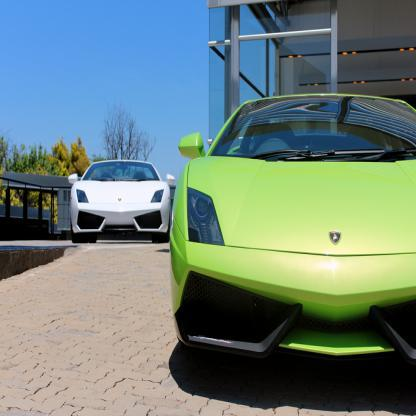car: (169, 91, 415, 368), (68, 158, 176, 244)
